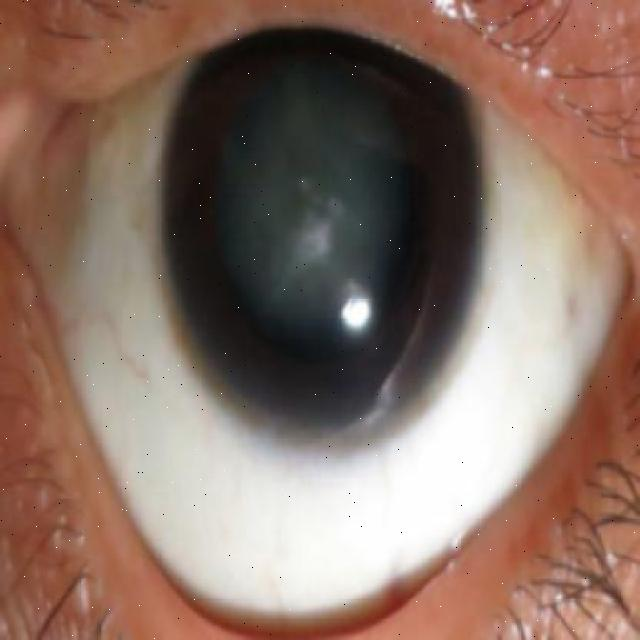Cataract: (157, 0, 491, 459)
